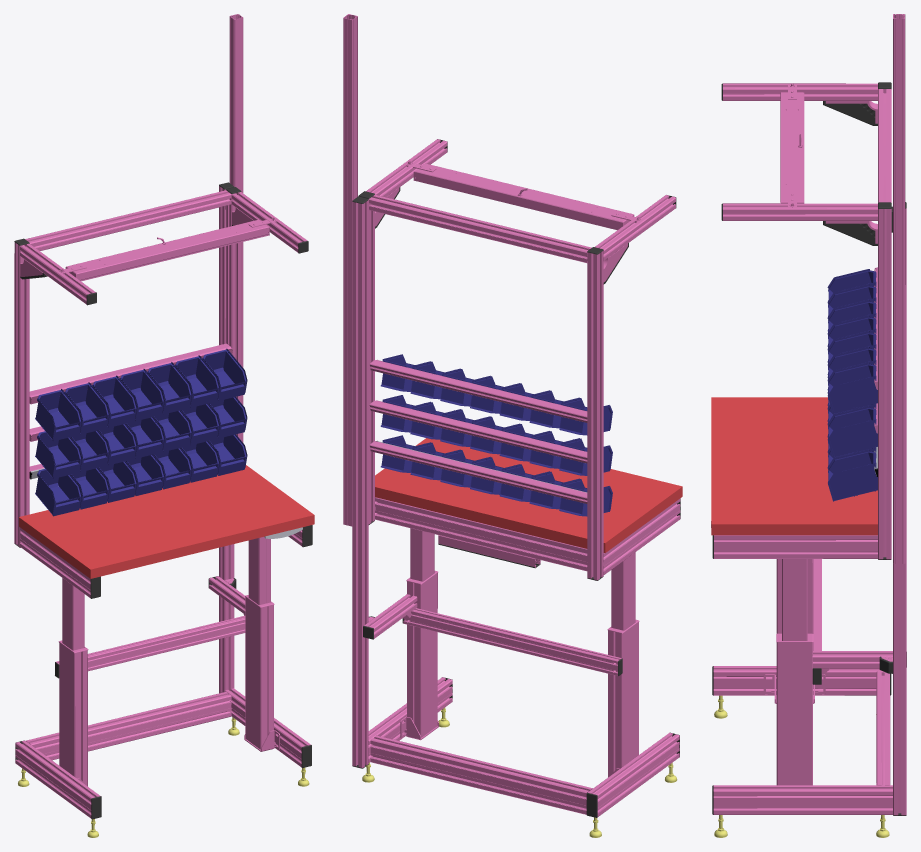
Rendered from Verstelbare_Werktafel.glb.
3 renders of one model, left to right at view 1: azimuth 30°, elevation 25°; view 2: azimuth 150°, elevation 25°; view 3: azimuth 270°, elevation 25°, orthographic. The views are drawn at different scales.
Parts seen in each view (by area): view 1: 3842992425_STRUT_PROFILE_4_5010_516_0_1_1:002, 3842992432_STRUT_PROFILE_4_5010_597_0_1_1:002; view 2: 3842992425_STRUT_PROFILE_4_5010_516_0_1_1:002, 3842992432_STRUT_PROFILE_4_5010_597_0_1_1:002; view 3: 3842992425_STRUT_PROFILE_4_5010_516_0_1_1:002, 3842992432_STRUT_PROFILE_4_5010_597_0_1_1:002.
Boxes of the visible parts, x1=… form: 3842992425_STRUT_PROFILE_4_5010_516_0_1_1:002: x1=14, y1=187, x2=314, y2=650; 3842992432_STRUT_PROFILE_4_5010_597_0_1_1:002: x1=15, y1=14, x2=311, y2=837; 3842992425_STRUT_PROFILE_4_5010_516_0_1_1:002: x1=358, y1=139, x2=682, y2=630; 3842992432_STRUT_PROFILE_4_5010_597_0_1_1:002: x1=343, y1=14, x2=679, y2=837; 3842992425_STRUT_PROFILE_4_5010_516_0_1_1:002: x1=711, y1=82, x2=892, y2=640; 3842992432_STRUT_PROFILE_4_5010_597_0_1_1:002: x1=712, y1=14, x2=906, y2=837.
Bounding box in the file's own units: 1.03 × 3.02 × 0.6514.
